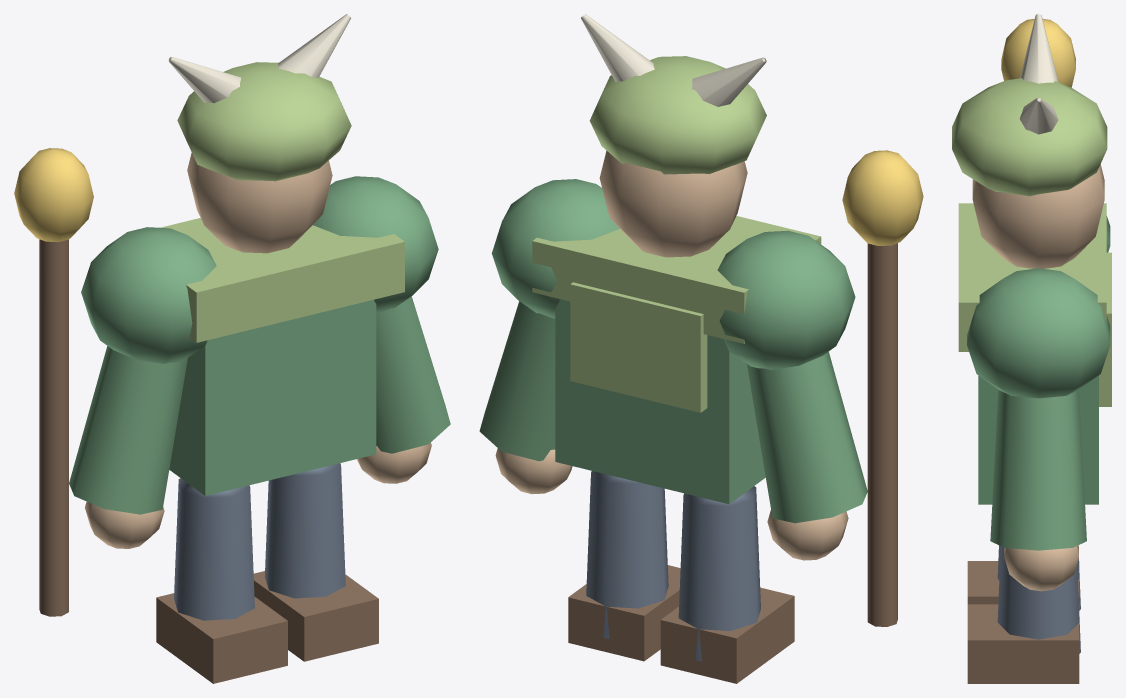
Rendered from beastmaster.glb.
3 views of the same model, side by side, from view 1: azimuth 30°, elevation 25°; view 2: azimuth 150°, elevation 25°; view 3: azimuth 270°, elevation 25° (orthographic). The views are drawn at different scales.
Visible parts, largest first — view 1: Torso, Pelt, Hair, Arm_-1, Shoulder_-1, Totem, Leg_-1, Leg_1, Head, Arm_1, Boot_-1, Shoulder_1 (+6 smaller); view 2: Torso, Hair, Arm_-1, Shoulder_-1, ChestPlate, Pelt, Totem, Head, Leg_-1, Leg_1, Shoulder_1, Arm_1 (+7 smaller); view 3: Shoulder_1, Arm_1, Hair, Head, Boot_1, Pelt, Leg_1, Torso, TotemStone, Hand_1, HornLeft, Boot_-1 (+2 smaller).
Boxes of the visible parts, x1,y1,x2,y2 form: Torso: (169,299,376,495); Pelt: (161,218,404,342); Hair: (177,62,351,181); Arm_-1: (69,346,187,514); Shoulder_-1: (81,227,216,364); Totem: (39,239,68,616); Leg_-1: (174,478,254,620); Leg_1: (264,463,345,598); Head: (187,153,332,253); Arm_1: (376,296,450,453); Boot_-1: (156,593,287,683); Shoulder_1: (313,176,438,313); Torso: (555,299,765,504); Hair: (589,56,766,174); Arm_-1: (747,351,867,523); Shoulder_-1: (717,230,855,370); ChestPlate: (570,282,707,412); Pelt: (532,216,821,343); Totem: (867,243,897,626); Head: (599,150,747,257); Leg_-1: (678,486,760,661); Leg_1: (586,471,668,638); Shoulder_1: (491,179,619,318); Arm_1: (479,301,555,461); Shoulder_1: (967,268,1110,398); Arm_1: (990,389,1086,550); Hair: (952,78,1107,196); Head: (972,164,1104,268); Boot_1: (967,604,1079,683); Pelt: (958,203,1106,351); Leg_1: (997,546,1080,653); Torso: (978,375,1098,504); TotemStone: (1001,19,1075,87); Hand_1: (1004,545,1078,591); HornLeft: (1020,14,1058,83); Boot_-1: (967,561,1079,604).
Bounding box in the file's own units: 1.59 × 2.15 × 0.5293.
